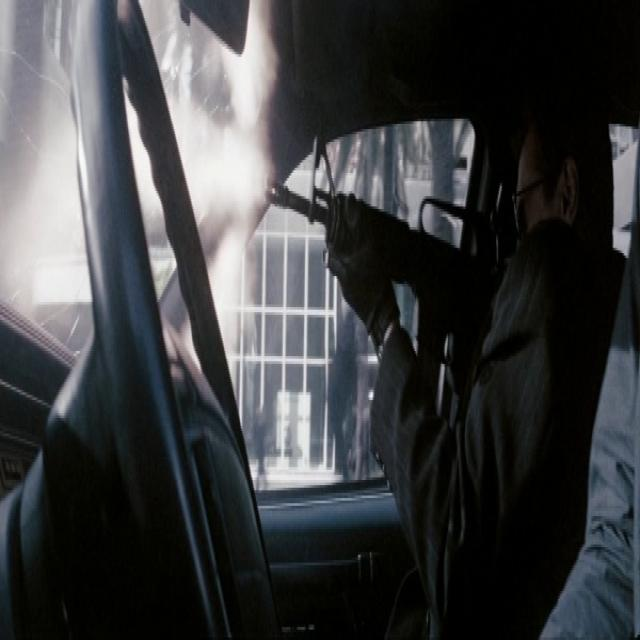rifle: (263, 121, 500, 391)
